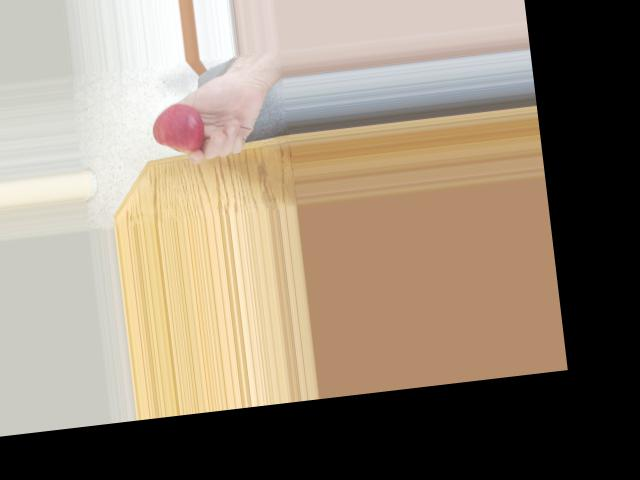apple: (147, 99, 210, 158)
